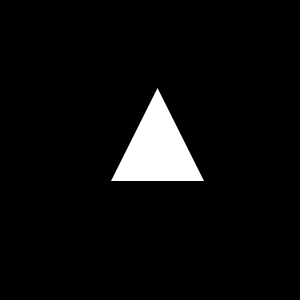triangle: (111, 88, 204, 181)
